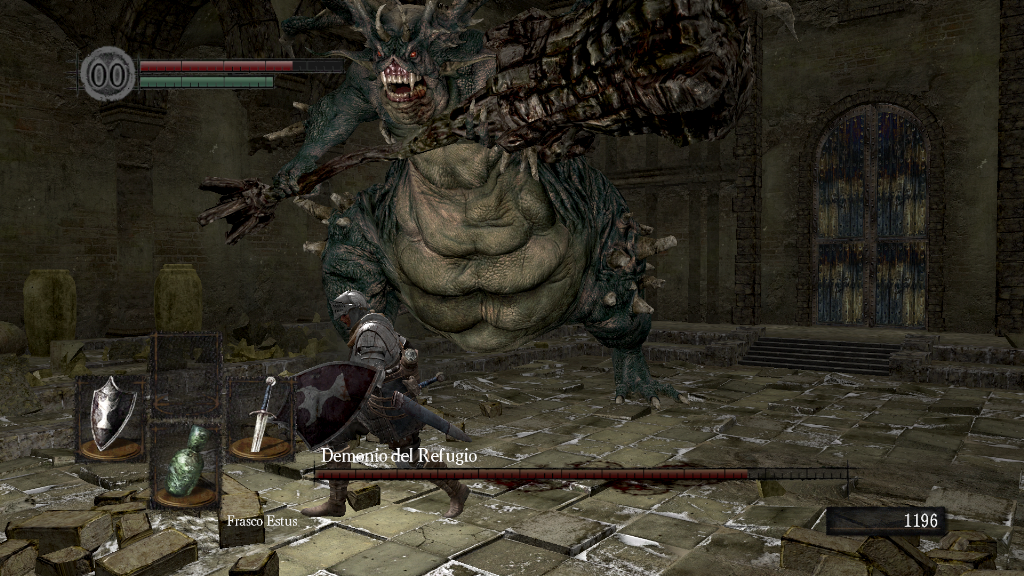asylumDemon: (197, 1, 758, 410)
bossHP: (314, 469, 847, 479)
health: (138, 58, 343, 71)
humanity: (80, 45, 136, 102)
player: (276, 287, 476, 519)
souls: (825, 506, 945, 536)
stamina: (138, 74, 274, 88)
